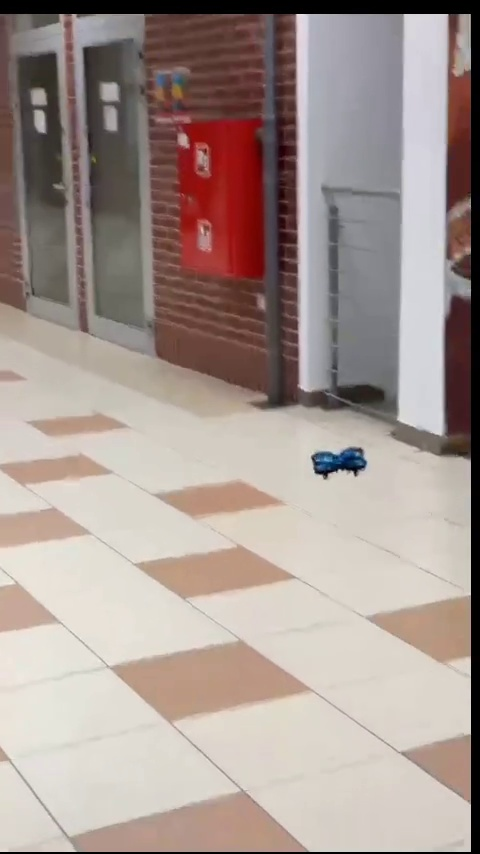drone: (313, 448, 373, 481)
